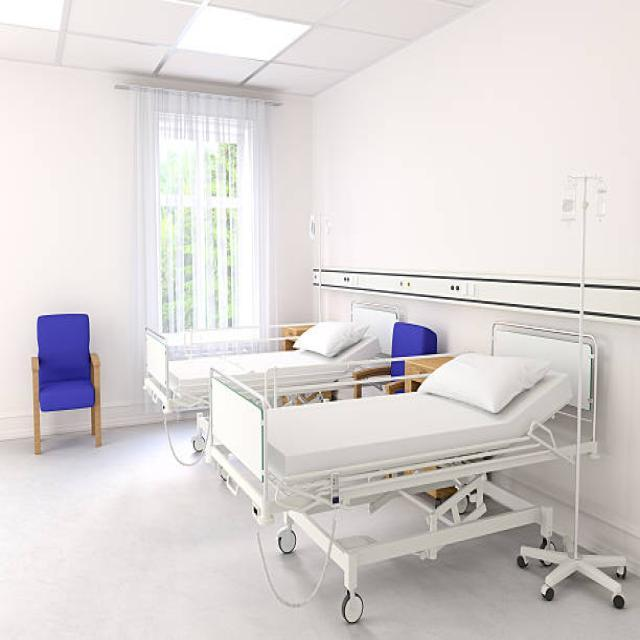bed: (197, 321, 598, 624), (138, 306, 400, 472)
chair: (15, 293, 116, 463)
